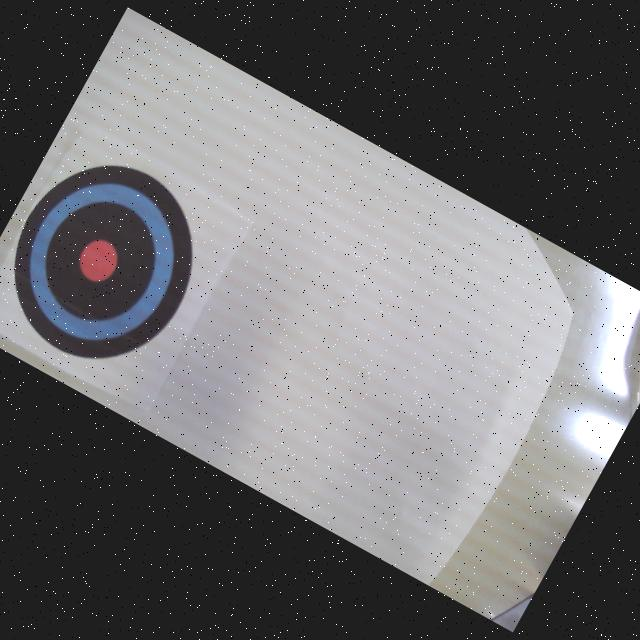COGNITIVE: (0, 133, 229, 392)
